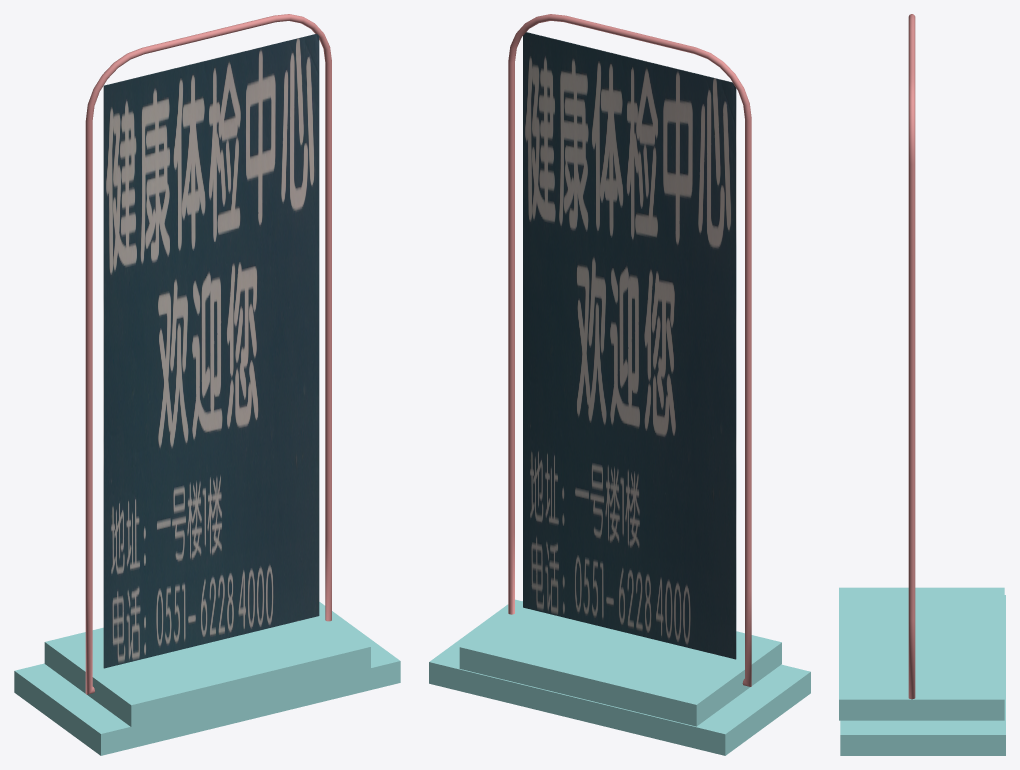
Rendered from lipai.obj.
3 renders of one model, left to right at view 1: azimuth 30°, elevation 25°; view 2: azimuth 150°, elevation 25°; view 3: azimuth 270°, elevation 25°, orthographic. The views are drawn at different scales.
Parts seen in each view (by area): view 1: Box001, Box003, Box002, Loft001; view 2: Box001, Box003, Box002, Loft001; view 3: Box003, Box002, Loft001.
Part boxes in pixels (<box>): Box001: <box>103,34,319,668</box>; Box003: <box>44,609,370,726</box>; Box002: <box>14,602,400,755</box>; Loft001: <box>85,14,331,694</box>; Box001: <box>523,32,736,659</box>; Box003: <box>459,601,781,726</box>; Box002: <box>429,599,810,755</box>; Loft001: <box>508,14,751,686</box>; Box003: <box>839,587,1004,720</box>; Box002: <box>840,595,1005,755</box>; Loft001: <box>908,14,915,699</box>.
Size of the model in its own units: 50.06 by 106 by 25.21.
